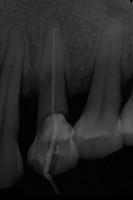Furcation Involvement: (41, 13, 67, 48)
